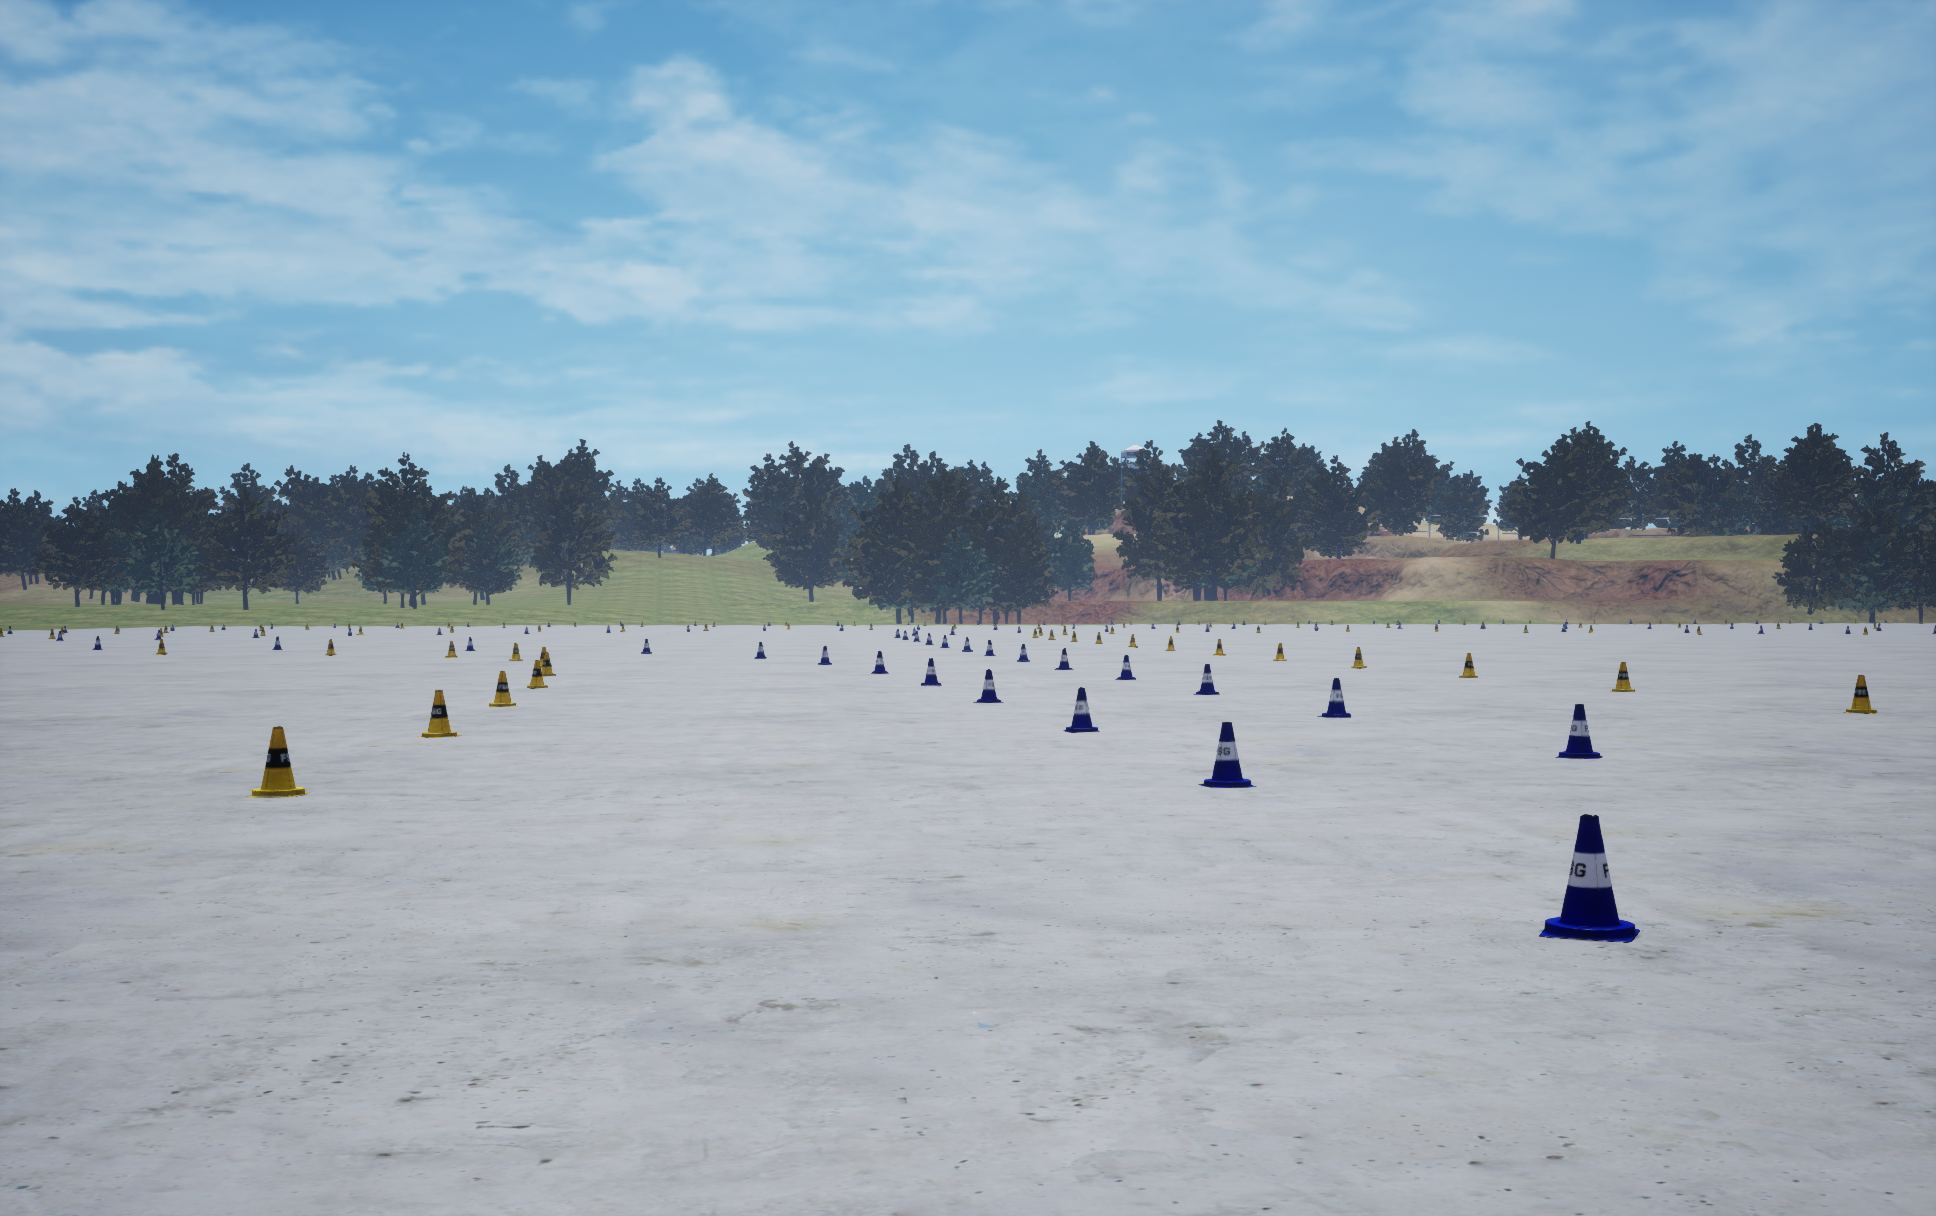blue: (247, 726, 310, 796), (417, 691, 461, 737), (1844, 675, 1879, 713), (489, 671, 517, 706), (1610, 663, 1633, 691), (527, 660, 546, 688), (1458, 653, 1477, 677), (541, 651, 555, 675), (1350, 647, 1366, 668), (1273, 643, 1286, 660), (539, 647, 551, 665)
yellow: (1540, 814, 1639, 941), (1198, 721, 1257, 787), (1555, 705, 1603, 758), (1063, 686, 1100, 733), (1317, 678, 1350, 717), (974, 670, 1003, 702), (1194, 664, 1219, 693), (920, 658, 941, 685), (1115, 656, 1135, 679), (1053, 649, 1073, 670), (871, 651, 888, 672), (818, 646, 831, 664), (1017, 644, 1030, 661)
